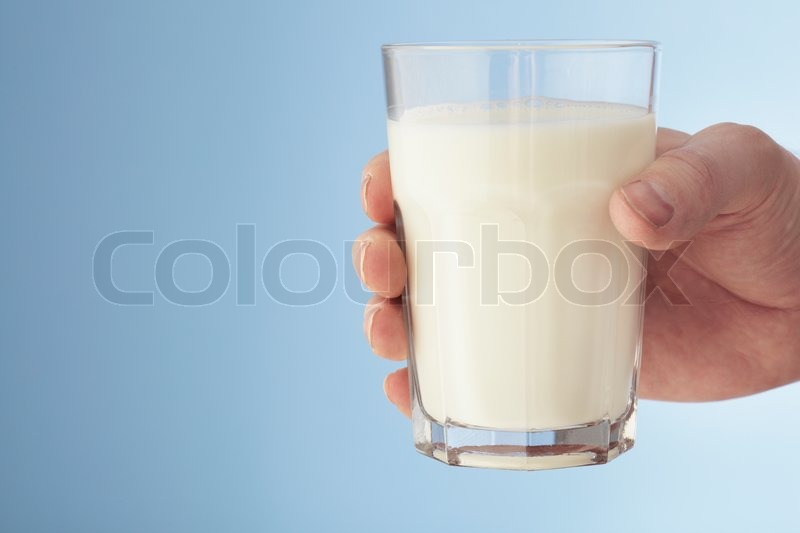glass of milk: (378, 40, 661, 465)
